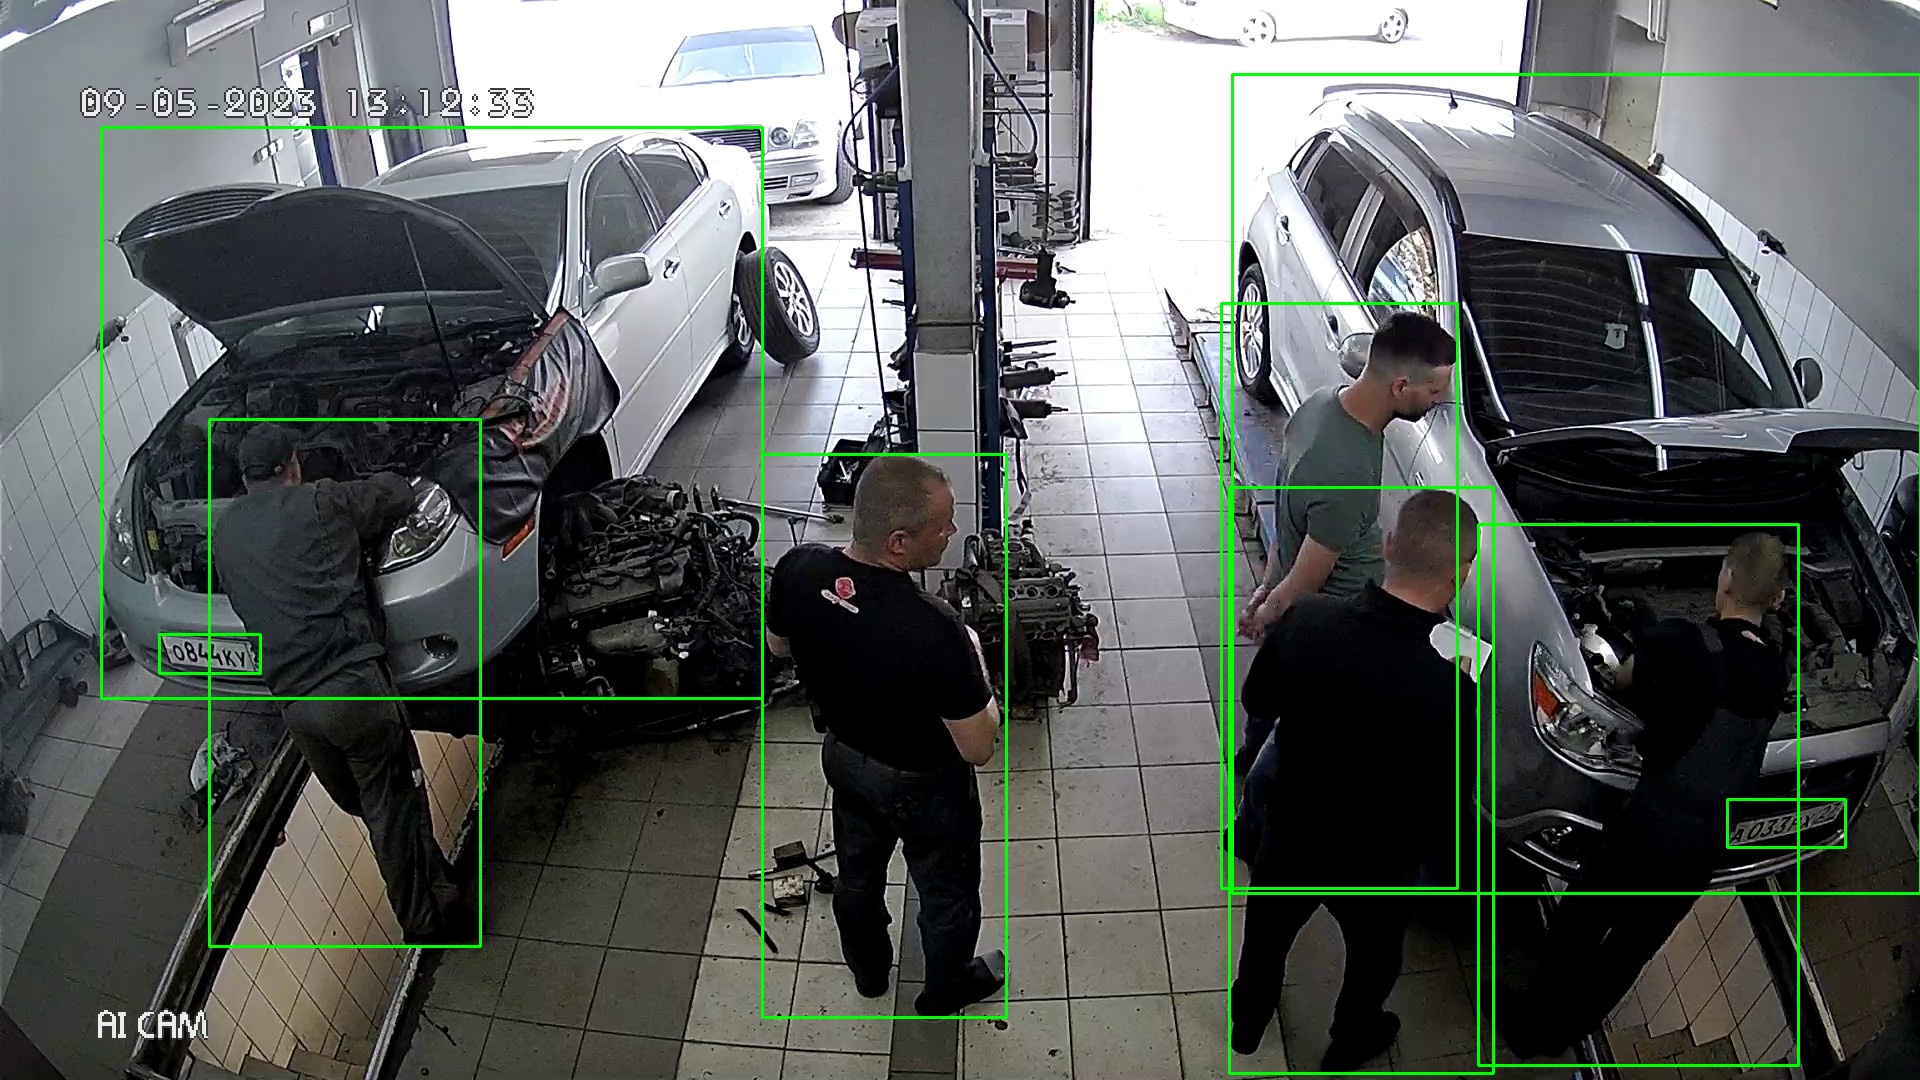car: (1232, 74, 1920, 893), (101, 127, 762, 698)
person: (1727, 799, 1845, 847), (159, 634, 260, 673)
plate: (1478, 524, 1798, 1065), (1229, 487, 1493, 1073), (209, 419, 480, 946), (1221, 303, 1457, 888), (762, 454, 1006, 1017)
